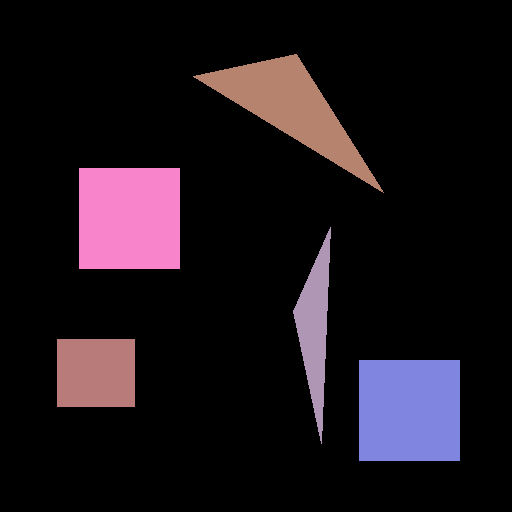rectangle: (57, 339, 134, 406)
square: (359, 360, 459, 460), (79, 168, 179, 268)
triangle: (193, 54, 383, 192), (293, 227, 330, 443)
